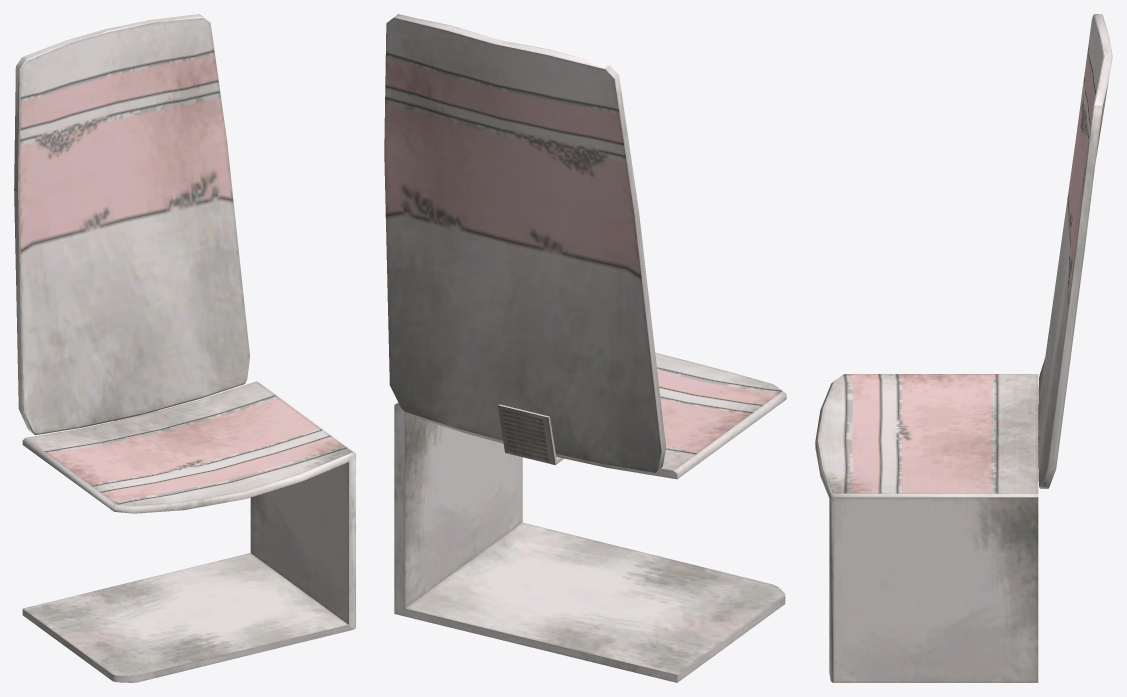
Rendered from frn_all_chair_kitchen_s2_l0.fbx.
The picture shows the model from 3 angles, left to right: view 1: azimuth 30°, elevation 25°; view 2: azimuth 150°, elevation 25°; view 3: azimuth 270°, elevation 25°; orthographic projection. The views are drawn at different scales.
Parts seen in each view (by area): view 1: mesh_node; view 2: mesh_node; view 3: mesh_node.
Boxes of the visible parts, <box> form: mesh_node: <box>14,14,355,682</box>; mesh_node: <box>384,14,786,682</box>; mesh_node: <box>815,14,1112,682</box>.
Size of the model in its own units: 0.56 by 1.2 by 0.5738.
